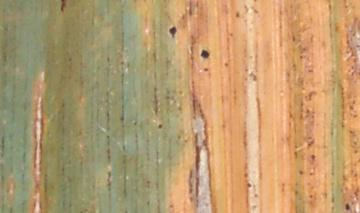tarspot: (199, 48, 210, 59), (169, 25, 177, 38), (60, 1, 67, 12), (234, 10, 241, 18), (222, 61, 229, 68), (345, 203, 351, 211), (246, 181, 252, 189), (157, 123, 163, 129), (203, 66, 209, 72)
